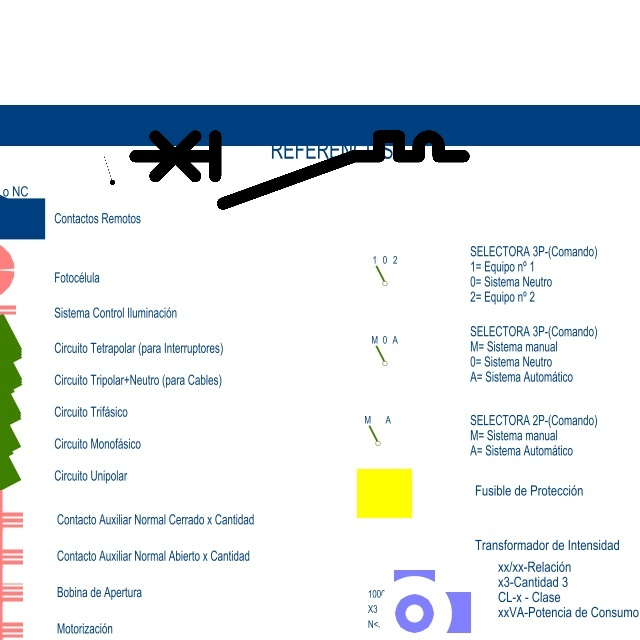interruptor_termomagnetico: (127, 128, 472, 212)
